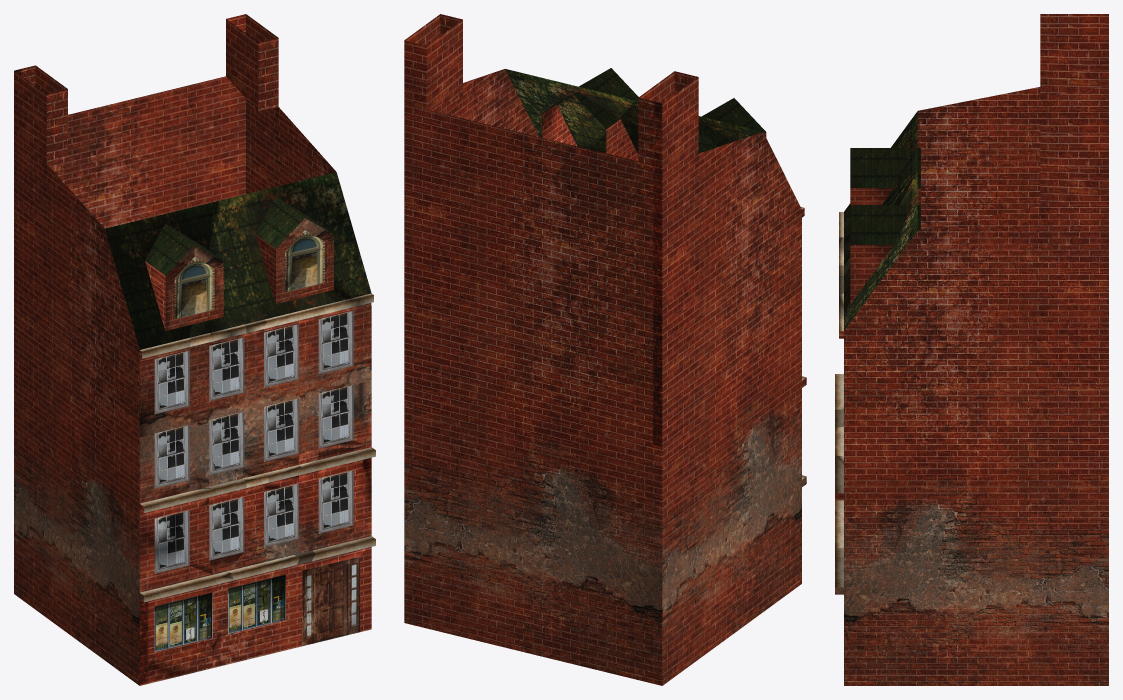
The model's file is Big_house2_LOD1.FBX.
3 renders of one model, left to right at view 1: azimuth 30°, elevation 25°; view 2: azimuth 150°, elevation 25°; view 3: azimuth 270°, elevation 25°, orthographic. The views are drawn at different scales.
Visible parts, largest first — view 1: B03_LOD1; view 2: B03_LOD1; view 3: B03_LOD1.
Boxes of the visible parts, <box> form: B03_LOD1: <box>14,14,375,685</box>; B03_LOD1: <box>404,14,806,685</box>; B03_LOD1: <box>835,14,1108,685</box>.
Bounding box in the file's own units: 52.88 × 114 × 51.23.
1 material, 1 textured.
